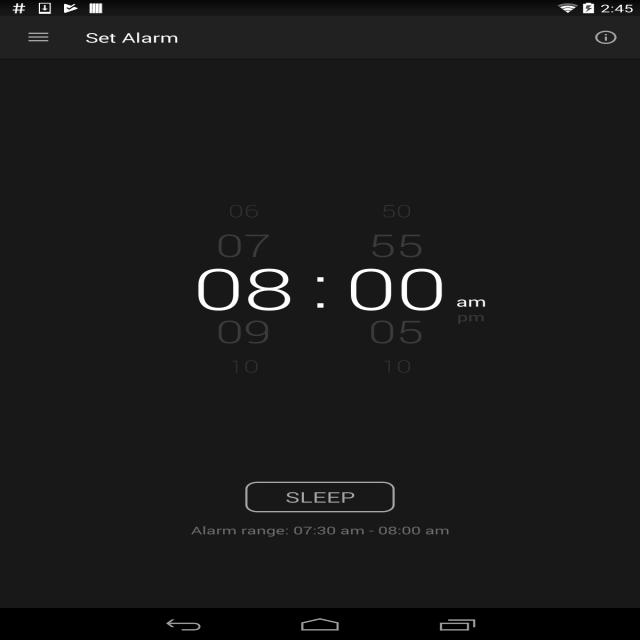Button: (234, 478, 416, 516)
ImageButton: (587, 28, 630, 52), (22, 26, 57, 49)
TextView: (182, 265, 494, 310), (184, 525, 474, 542), (83, 29, 190, 48)
